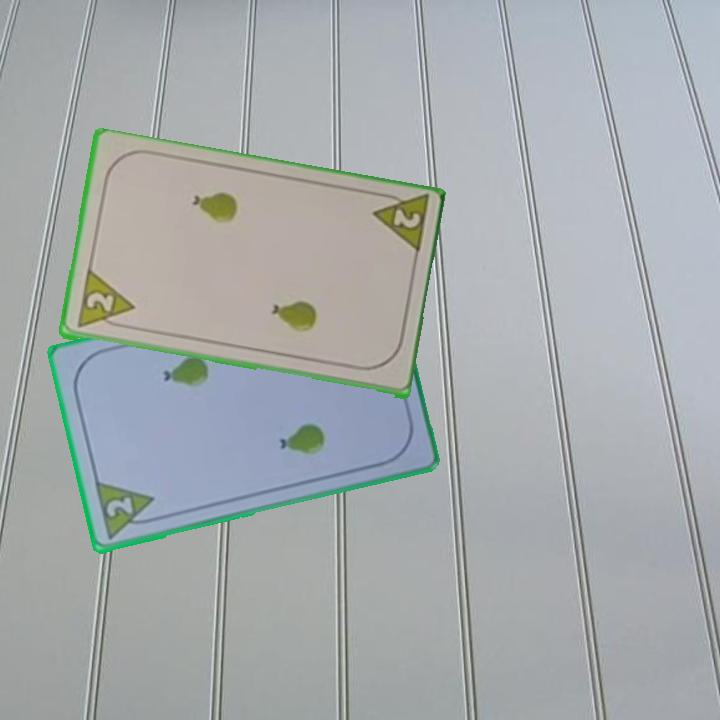2p: (90, 478, 161, 543), (368, 189, 432, 259), (73, 269, 137, 332)
